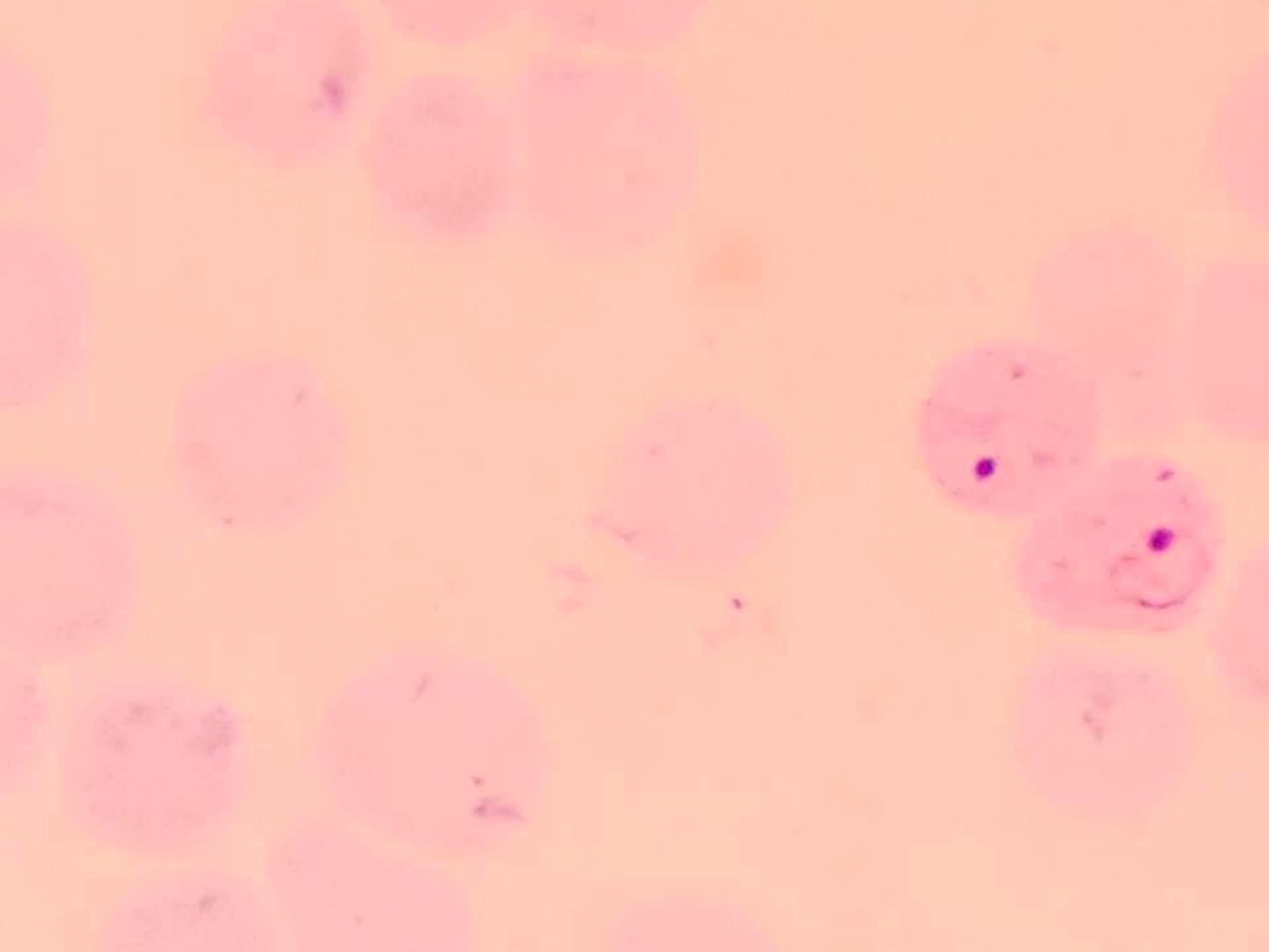Infected: (1010, 459, 1226, 635)
Uninfected: (332, 654, 555, 865), (1033, 225, 1202, 449), (522, 50, 700, 247), (1001, 653, 1195, 827), (603, 400, 789, 581), (58, 681, 236, 859), (170, 355, 351, 526), (919, 346, 1095, 515), (200, 0, 373, 168), (372, 70, 527, 242), (0, 466, 137, 660)
